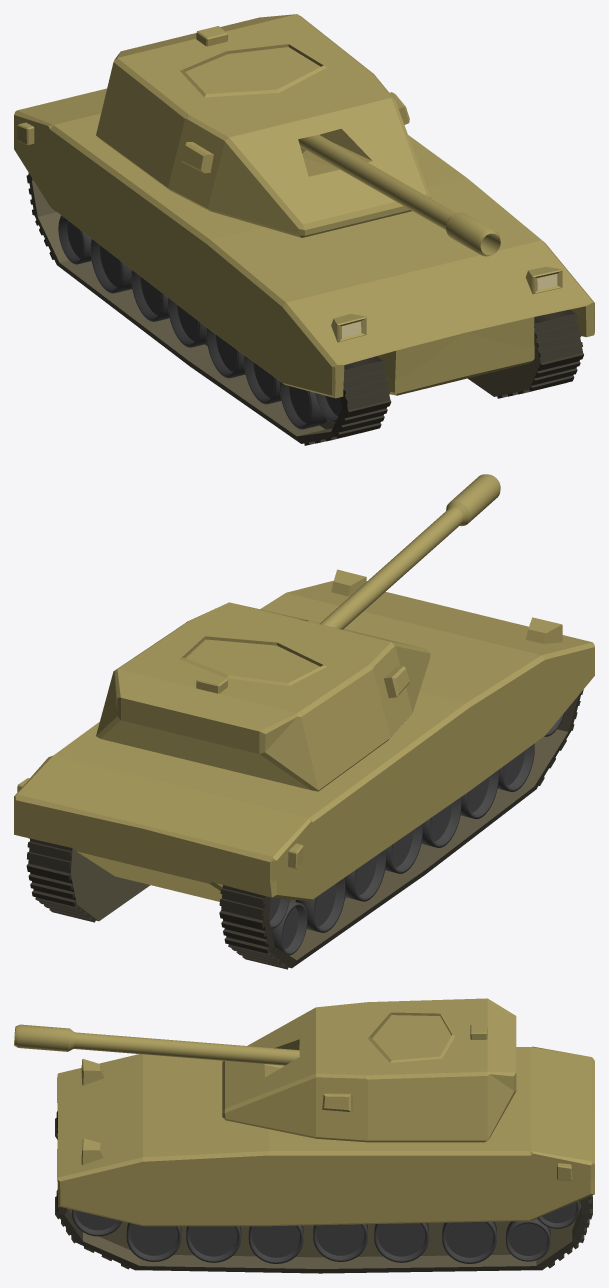
Rendered from ExportedBlenderFBXFile.fbx.
3 renders of one model, top to bottom at view 1: azimuth 30°, elevation 25°; view 2: azimuth 150°, elevation 25°; view 3: azimuth 270°, elevation 25°, orthographic. The views are drawn at different scales.
Parts seen in each view (by area): view 1: Cube; view 2: Cube; view 3: Cube.
Boxes of the visible parts, box(x1,y1,x2,y2) form: Cube: box(14, 14, 594, 445); Cube: box(14, 474, 594, 969); Cube: box(14, 998, 594, 1273).
Bounding box in the file's own units: 1.5 × 1.22 × 3.22.
